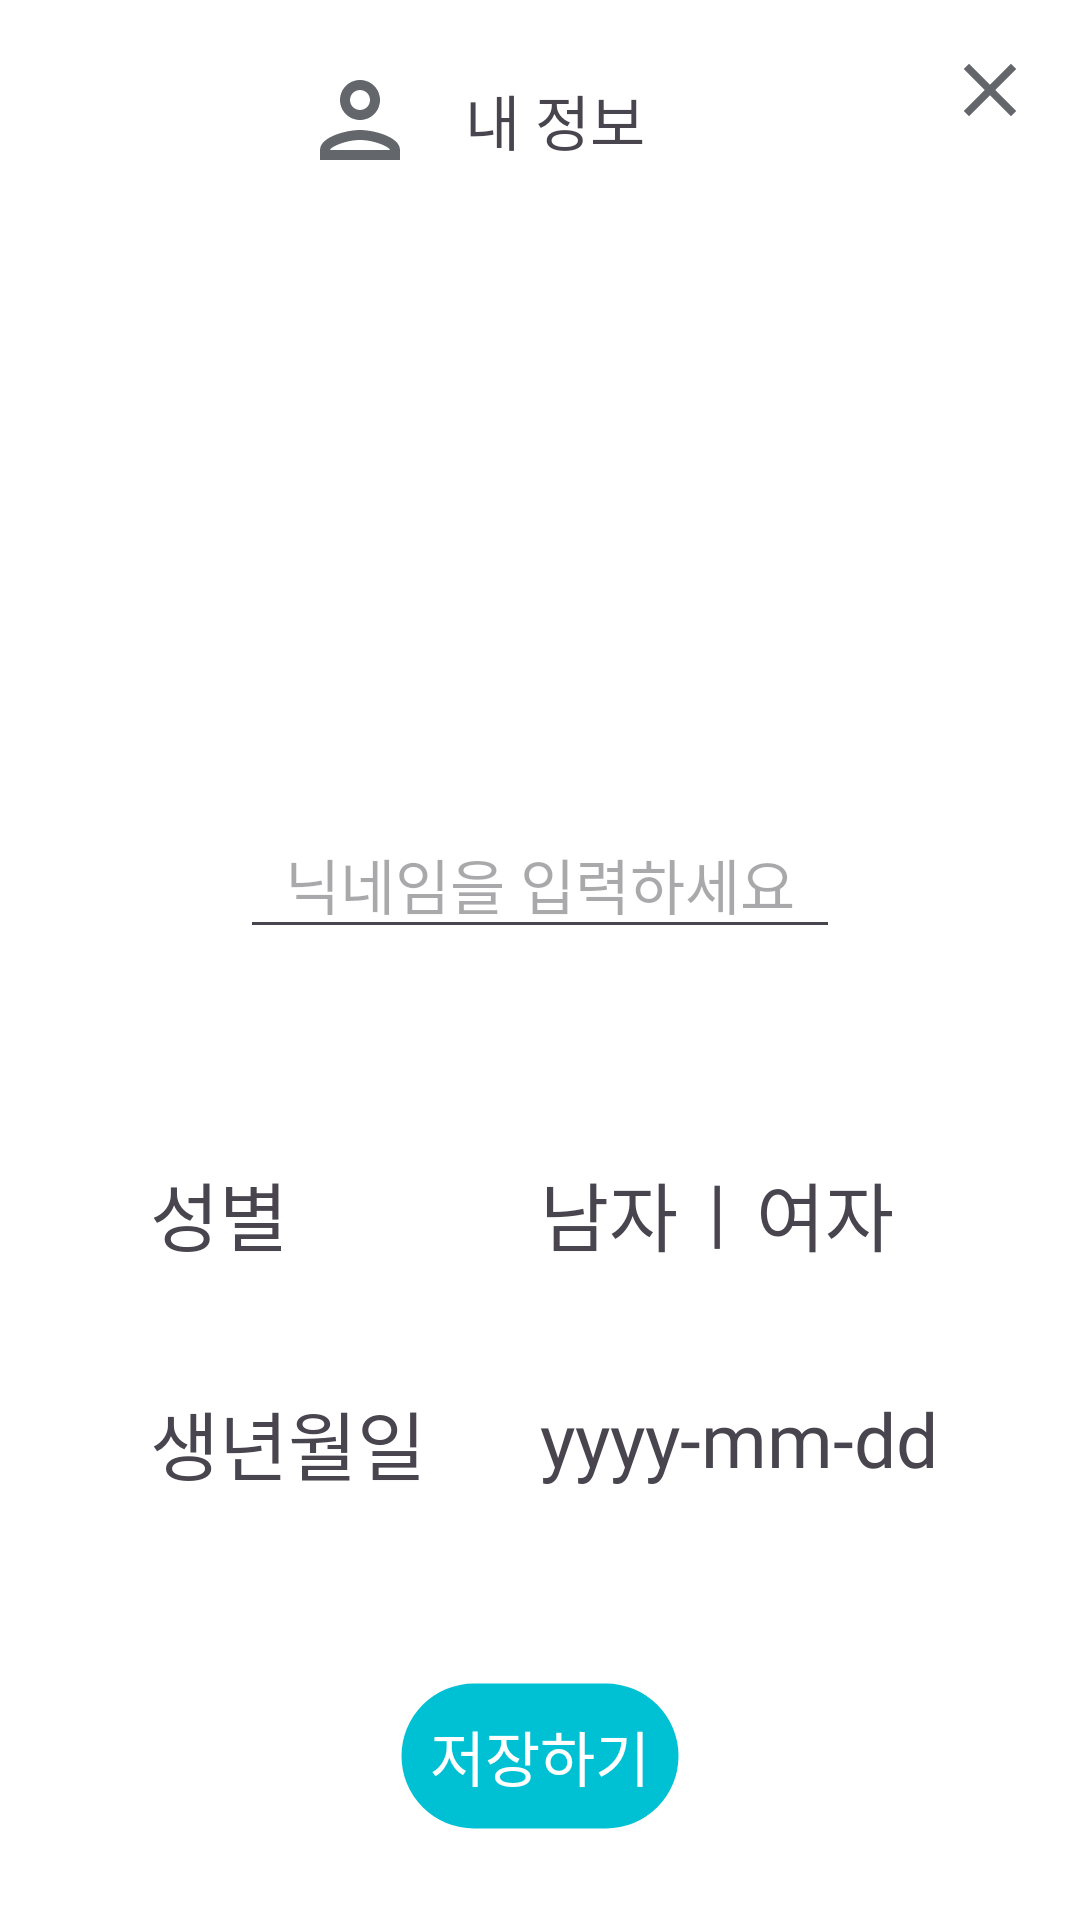

Screen size 1080 × 1920. Icon name, then its box in pixels as (x1, y1, x2, y2):
account: (320, 80, 400, 160)
close: (964, 64, 1016, 116)
